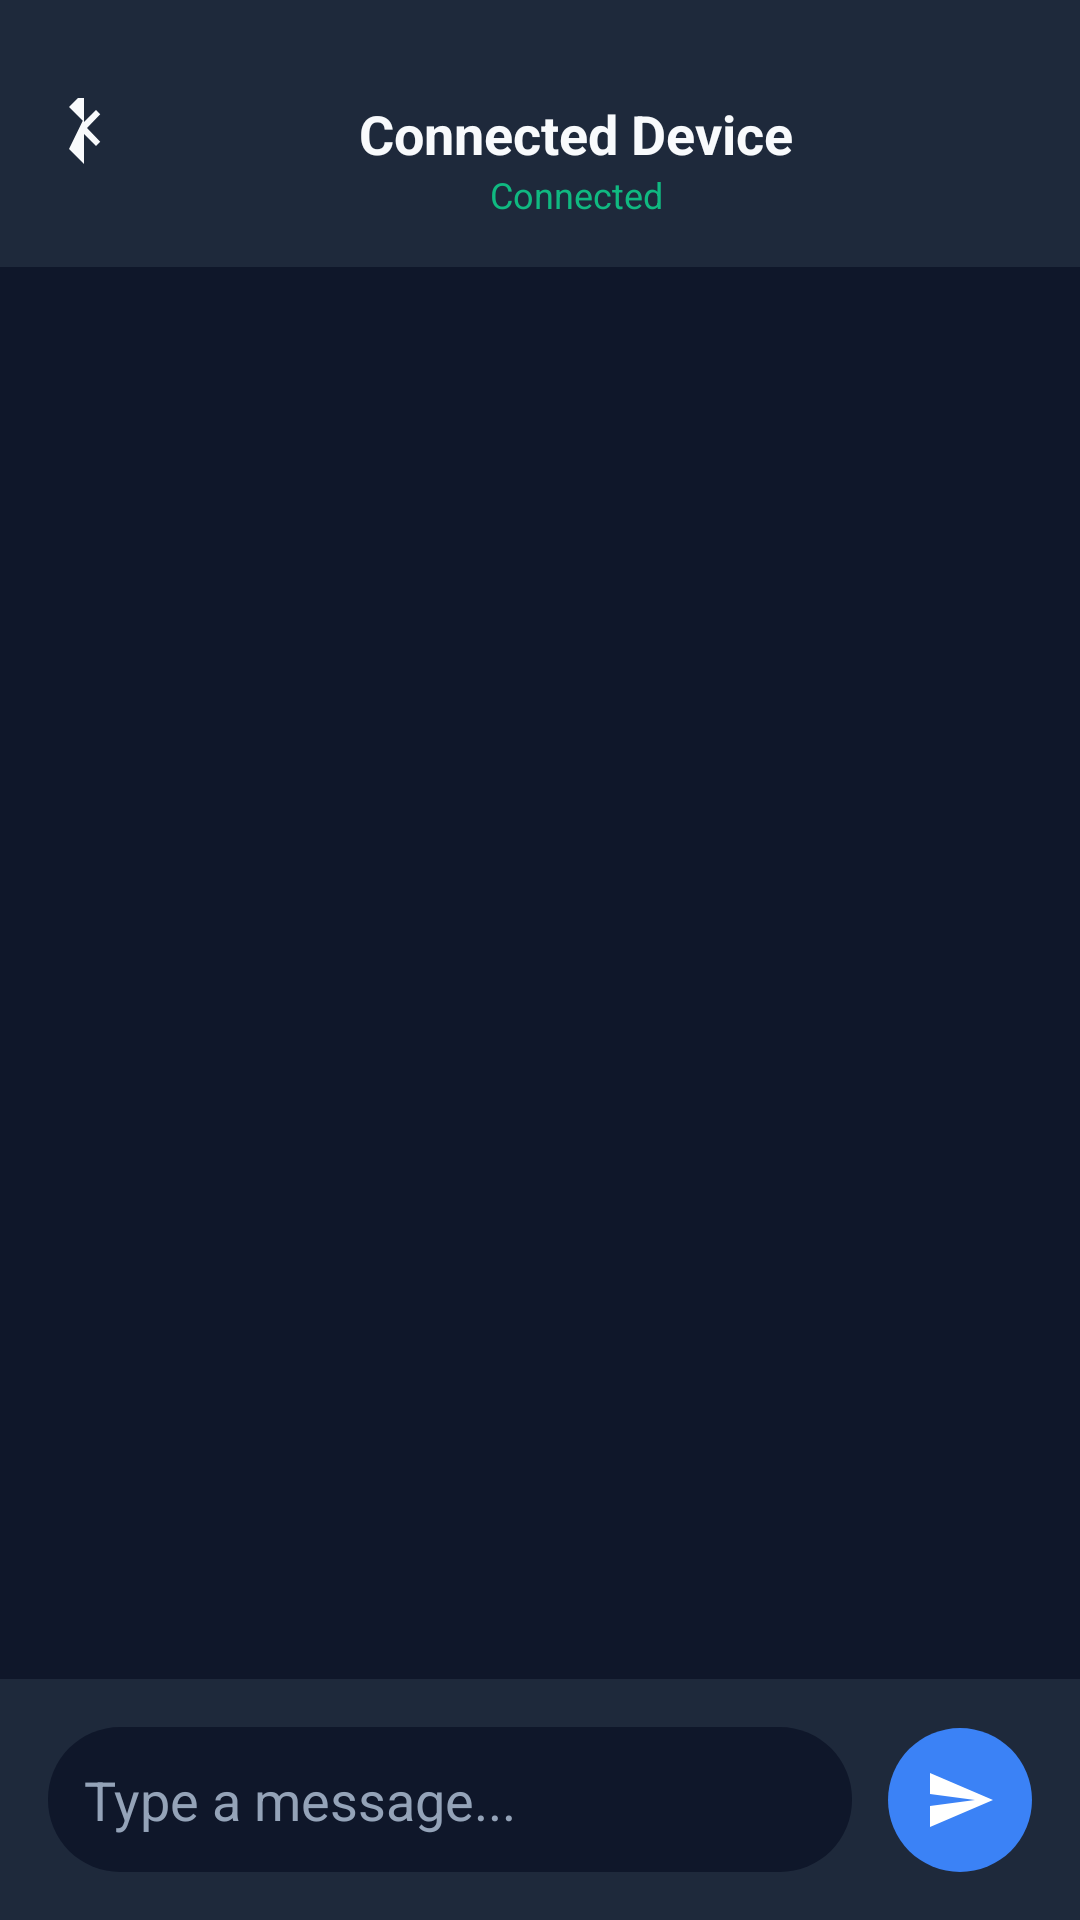

Named icons in this screenshot (1080px x 1920px) and their bounding boxes, BBox(x1, y1, x2, y2):
send: BBox(888, 1728, 1032, 1872)
